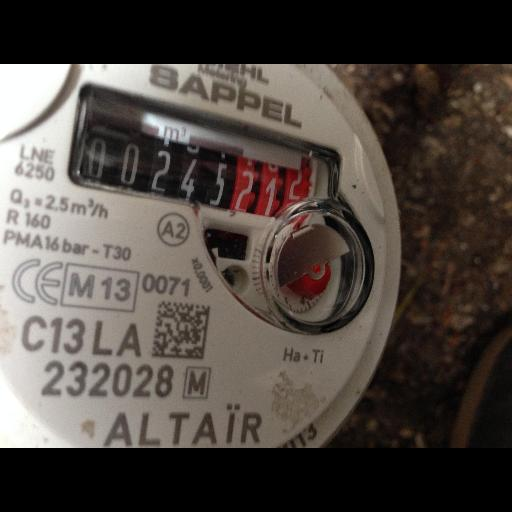0: (77, 118, 124, 186), (112, 127, 155, 193)
1: (253, 162, 291, 221)
2: (143, 136, 183, 201), (228, 154, 263, 216), (285, 156, 314, 211)
4: (173, 142, 210, 205)
5: (200, 147, 241, 211)
border_water_meter_number: (69, 96, 341, 236)
